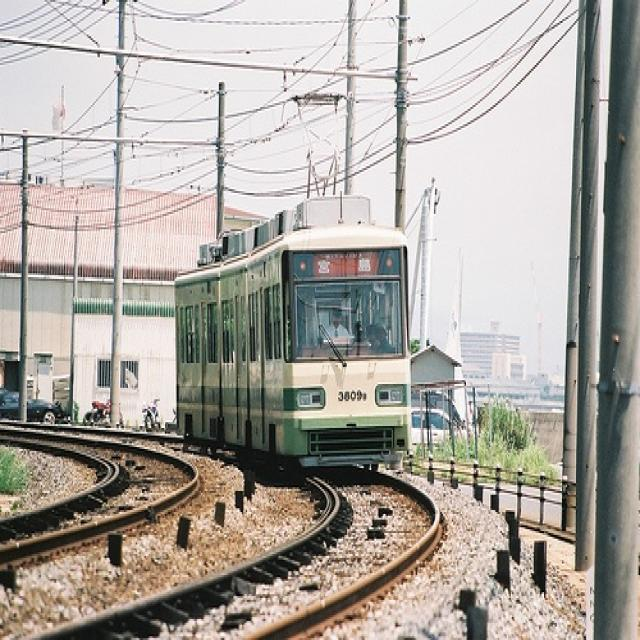train: (175, 94, 412, 474)
